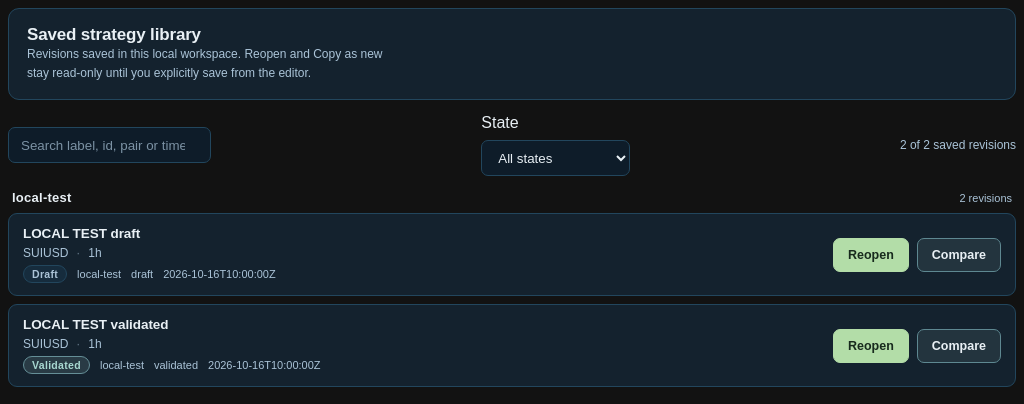
SavedStrategyLibrary search toolbar accessibility › honors the announced Escape on the Clear control itself and returns focus to search
Expected: the text "2 of 2 saved revisions" is shown, left=900, top=138, right=1016, bottom=152
Type "validated" into the search field with test id "library-search".
click(110, 145); type("validated")  # box left=8, top=127, right=211, bottom=163
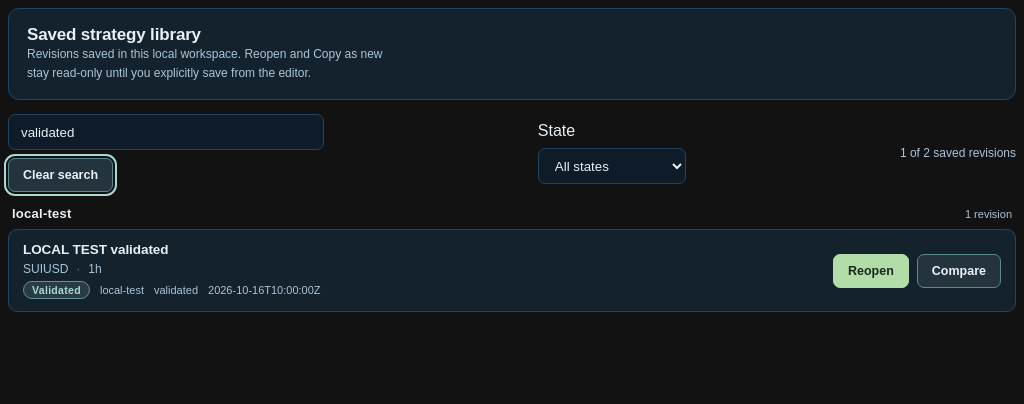
Press Escape in the button with test id "library-search-clear", box left=8, top=158, right=113, bottom=192
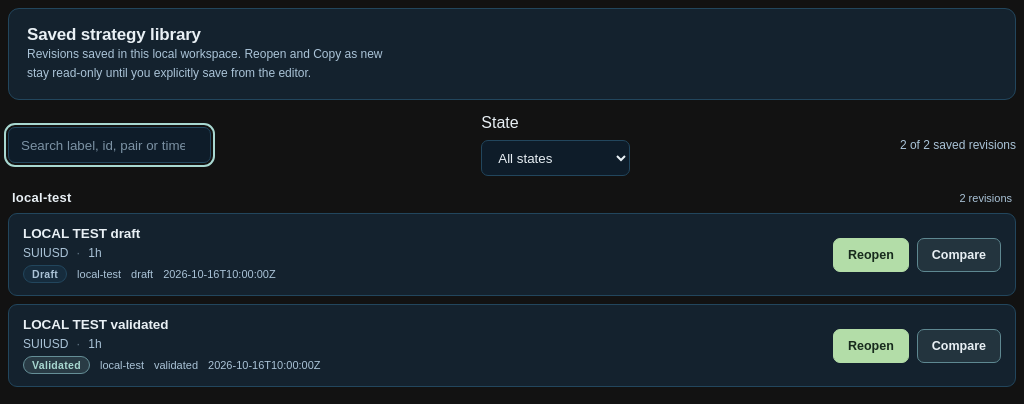
Now the search field with test id "library-search" is empty, box left=8, top=127, right=211, bottom=163
Now the button with test id "library-search-clear" is gone
Now the number of list items with test id "library-row" is 2, box left=8, top=213, right=1016, bottom=296; left=8, top=304, right=1016, bottom=387
